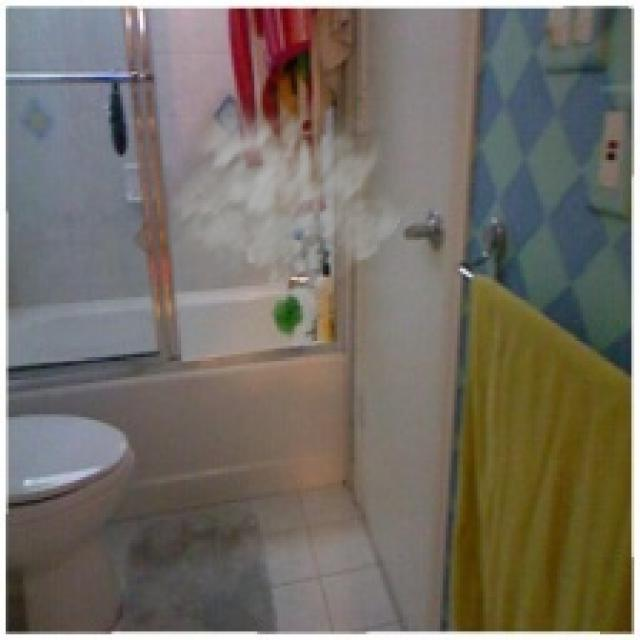smoke: (157, 68, 417, 303)
